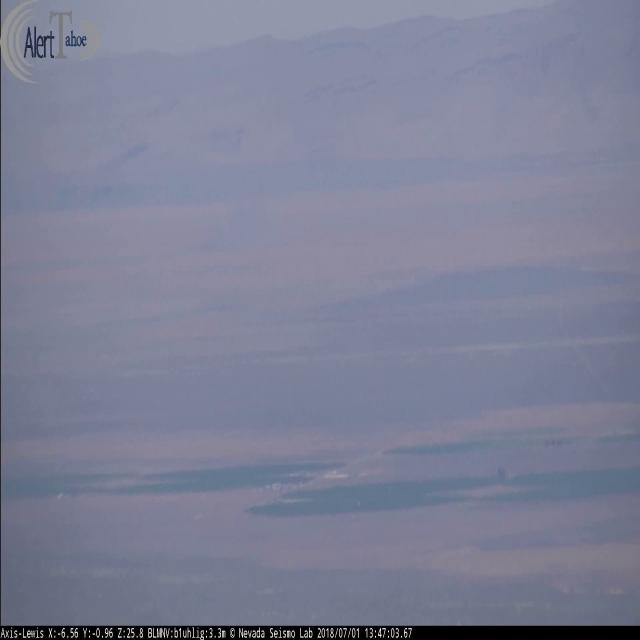smoke: (187, 193, 267, 254)
